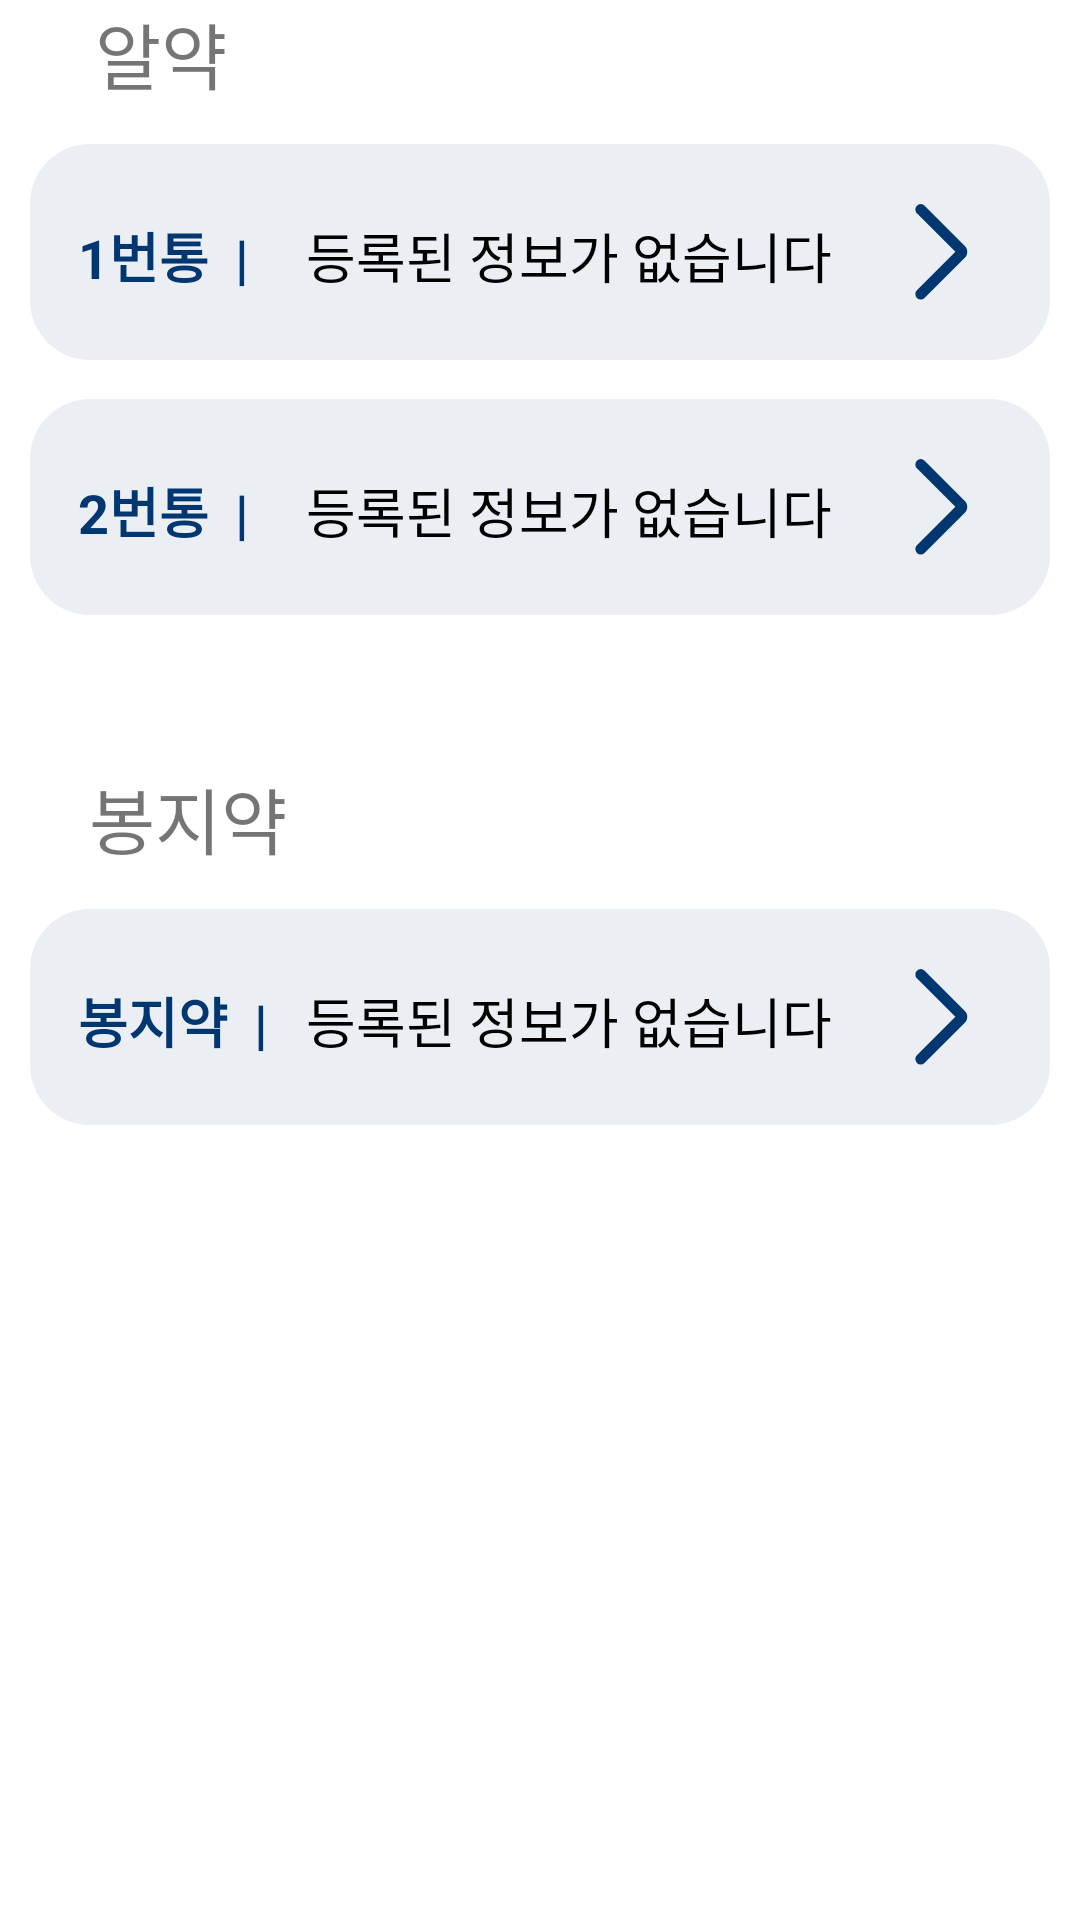

Where icons sit on this 1080px x 1920px app screen, as (x1, y1, x2, y2):
화살표 아이콘: (915, 204, 968, 300), (915, 459, 968, 555), (915, 969, 968, 1065)
